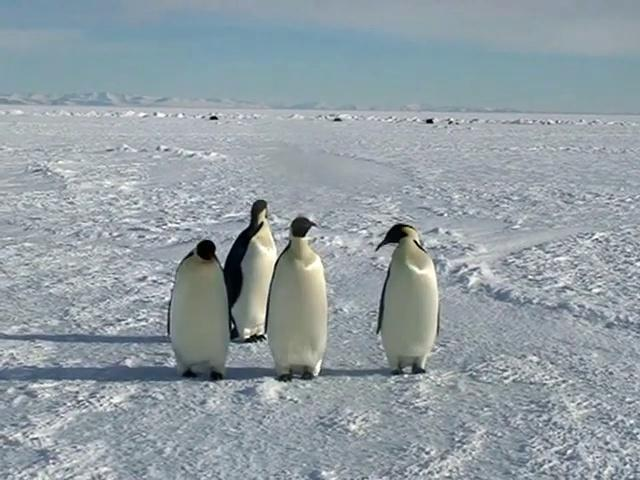animal: (376, 224, 438, 373)
